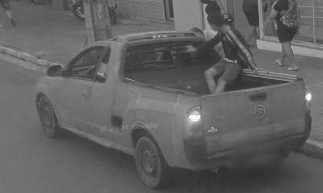car: (32, 31, 313, 189)
